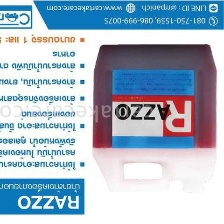cleaning_solution: (90, 39, 220, 193)
